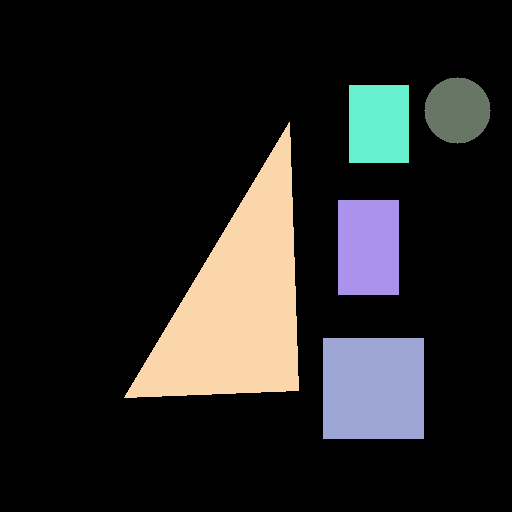circle: (424, 77, 490, 143)
rectangle: (338, 200, 398, 294), (349, 85, 408, 162)
square: (323, 338, 423, 438)
triangle: (124, 122, 298, 397)
